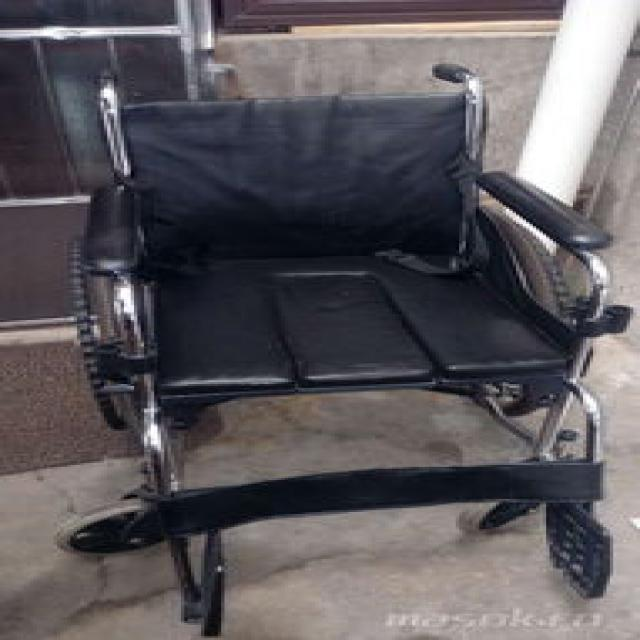wheelchairs: (66, 64, 614, 608)
